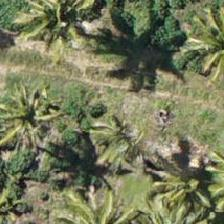coconut_tree: (12, 0, 102, 58)
